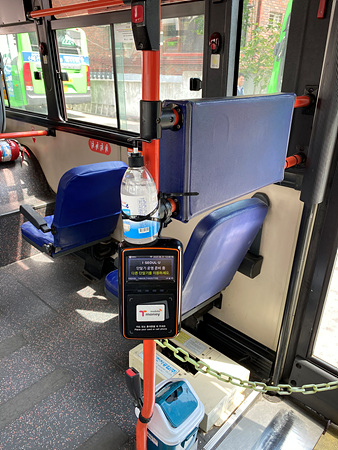terminal: (122, 241, 180, 337)
